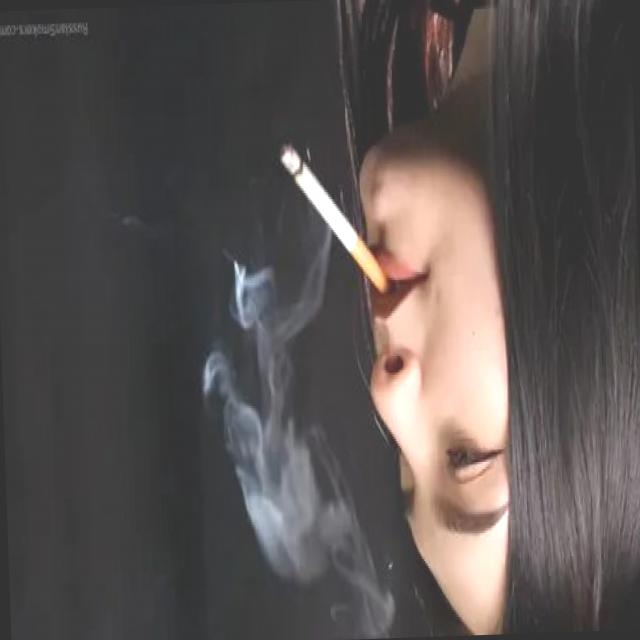cigarette: (278, 140, 390, 302)
